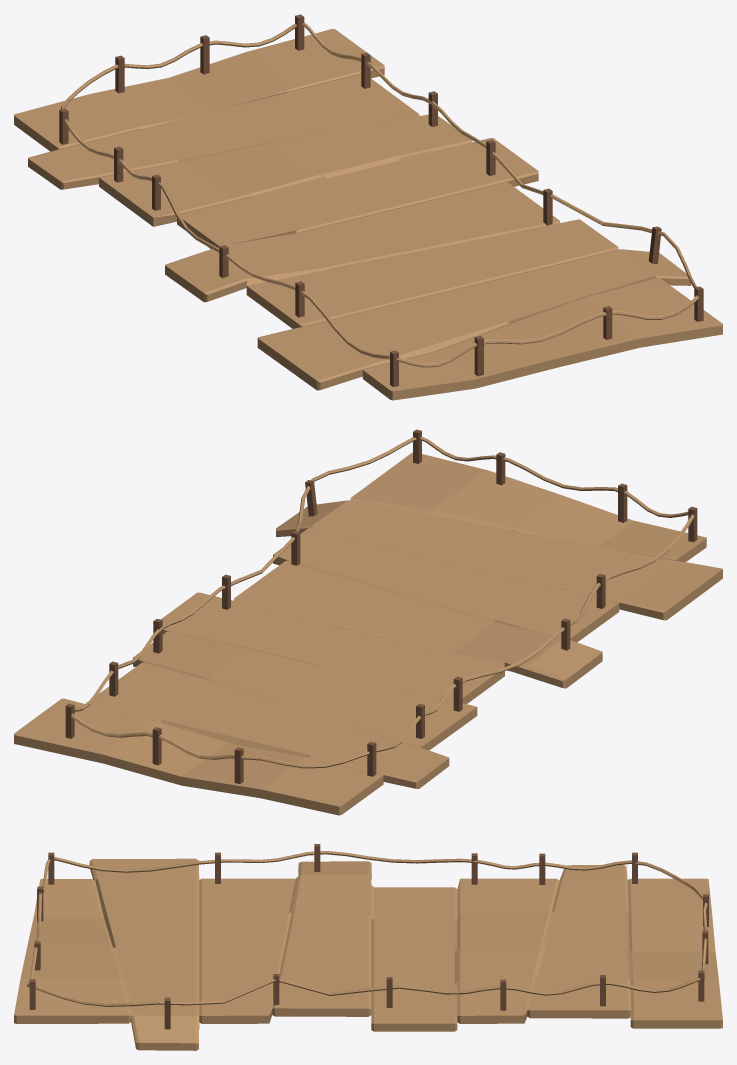
Rendered from Plateform_wood_3.fbx.
The picture shows the model from 3 angles, top to bottom: view 1: azimuth 30°, elevation 25°; view 2: azimuth 150°, elevation 25°; view 3: azimuth 270°, elevation 25°; orthographic projection. The views are drawn at different scales.
Visible parts, largest first — view 1: Plateform_wood_3; view 2: Plateform_wood_3; view 3: Plateform_wood_3.
Part boxes in pixels (x1=…): Plateform_wood_3: x1=14, y1=14, x2=722, y2=400; Plateform_wood_3: x1=14, y1=429, x2=722, y2=815; Plateform_wood_3: x1=14, y1=844, x2=722, y2=1050.
Bounding box in the file's own units: 790 × 457 × 58.24.
